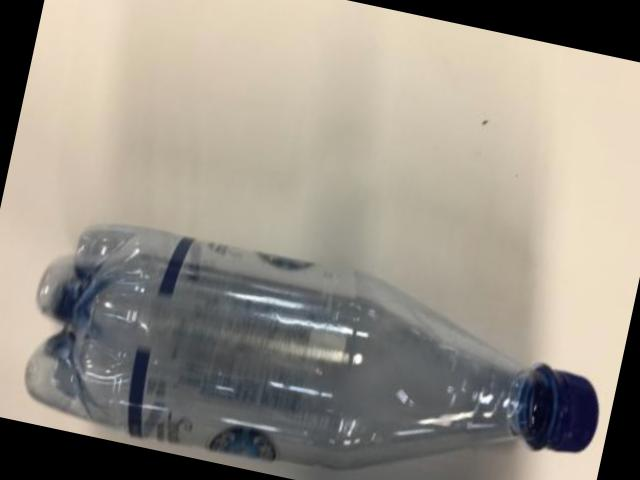plastic: (24, 223, 596, 467)
